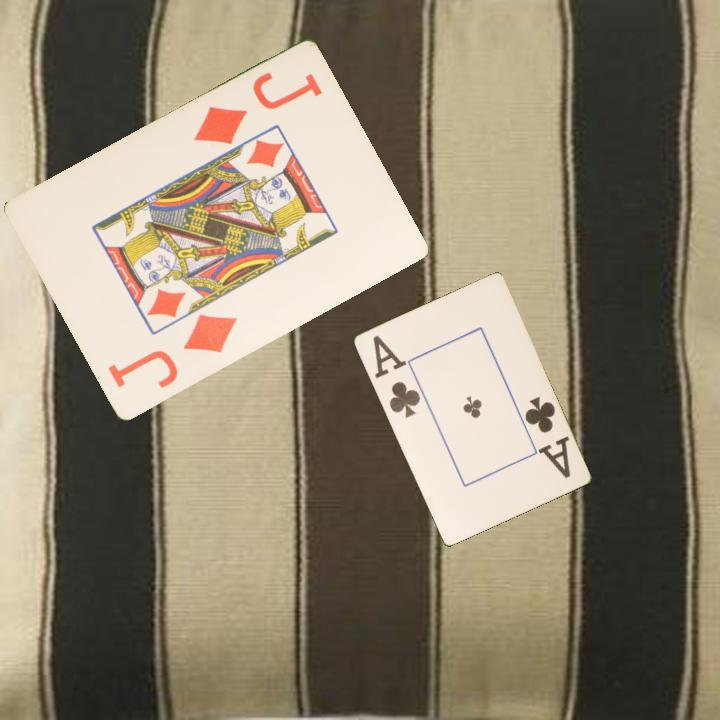Ac: (369, 331, 423, 421), (521, 393, 573, 481)
Jd: (189, 68, 326, 149), (104, 311, 240, 392)
